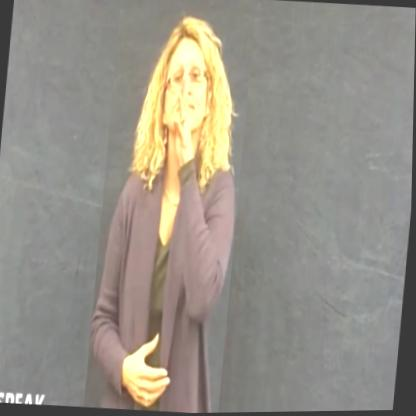Talk: (85, 4, 255, 415)
